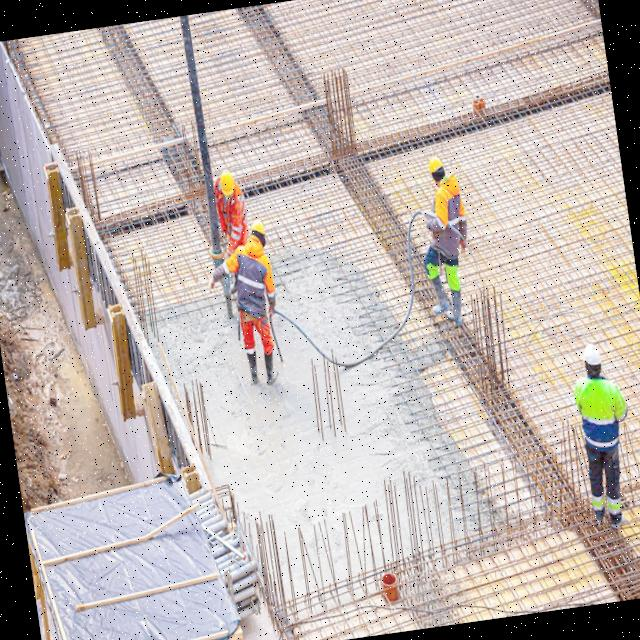Helmet: (217, 168, 239, 201), (581, 341, 605, 370), (426, 156, 448, 178), (248, 219, 270, 241)
Jacket: (579, 371, 621, 461), (433, 178, 467, 264), (236, 241, 272, 321), (215, 191, 246, 241)
